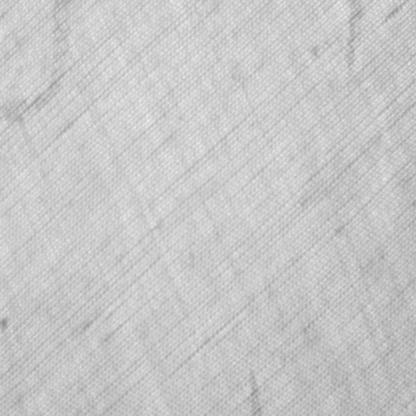oil spot: (0, 0, 71, 123), (342, 0, 365, 77), (248, 366, 261, 416)
